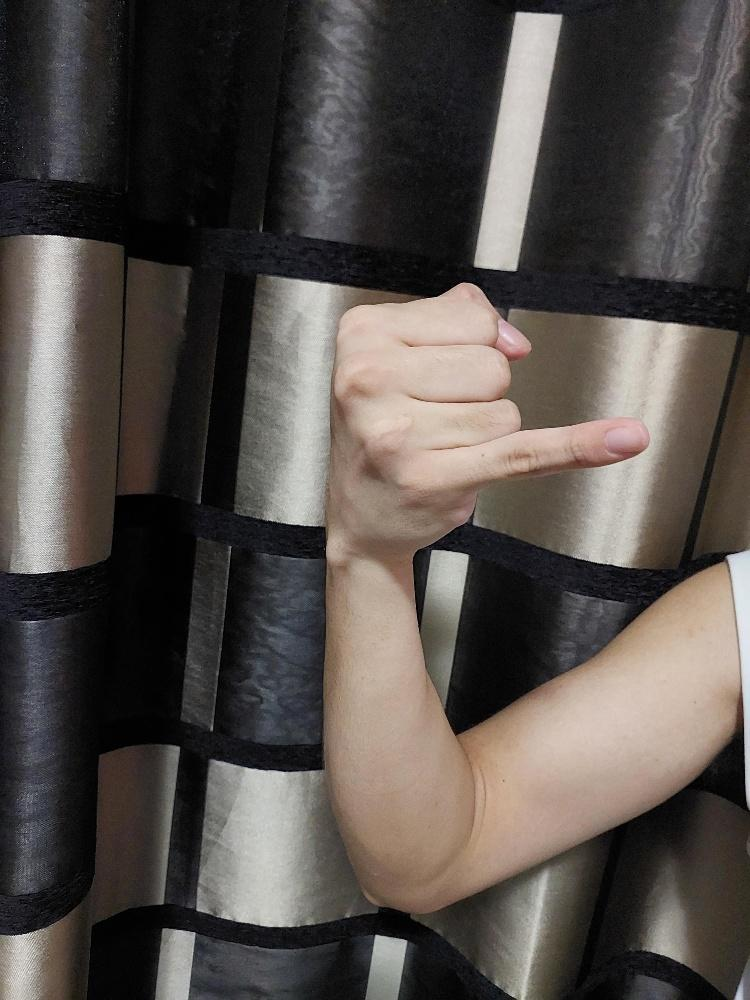j: (322, 278, 651, 553)
